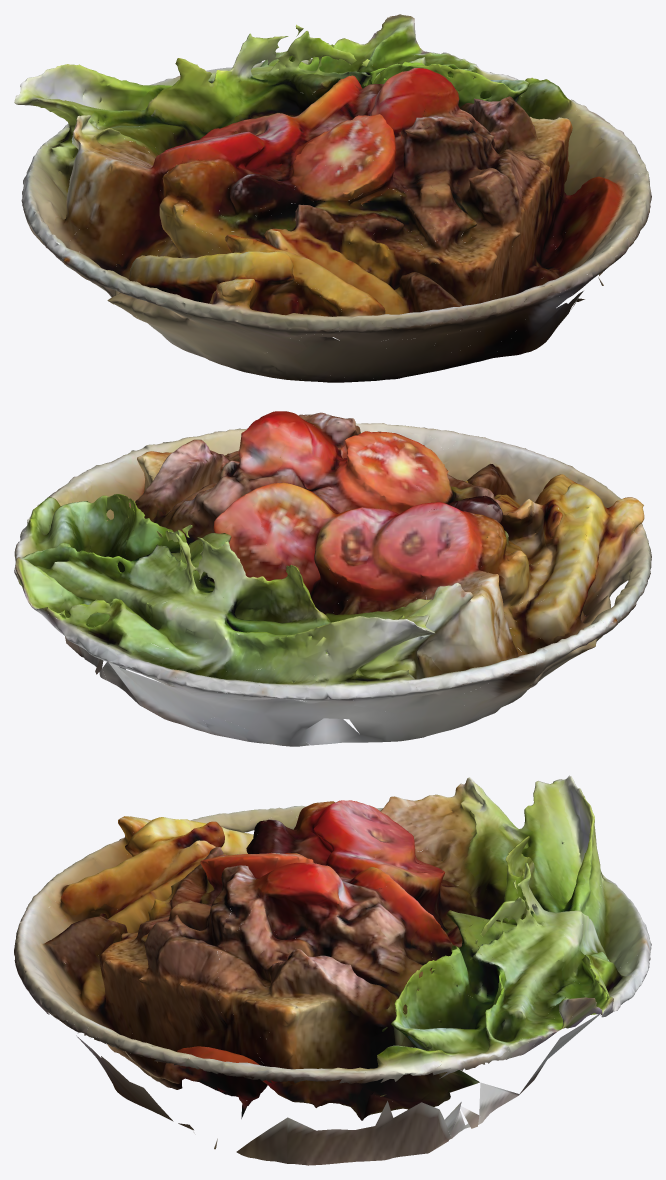
The model's file is burger-la-plena.glb.
3 renders of one model, top to bottom at view 1: azimuth 30°, elevation 25°; view 2: azimuth 150°, elevation 25°; view 3: azimuth 270°, elevation 25°, orthographic.
Parts seen in each view (by area): view 1: parte1, parte0; view 2: parte0, parte1; view 3: parte1, parte0.
Part boxes in pixels (x1,y1,x2,y2): parte1: (22, 15, 650, 382); parte0: (14, 14, 651, 382); parte0: (14, 412, 651, 746); parte1: (14, 411, 650, 745); parte1: (14, 794, 651, 1148); parte0: (14, 775, 649, 1165).
Bounding box in the file's own units: 0.2312 × 0.0859 × 0.2305.
Materials: 1 (1 with a texture image).
